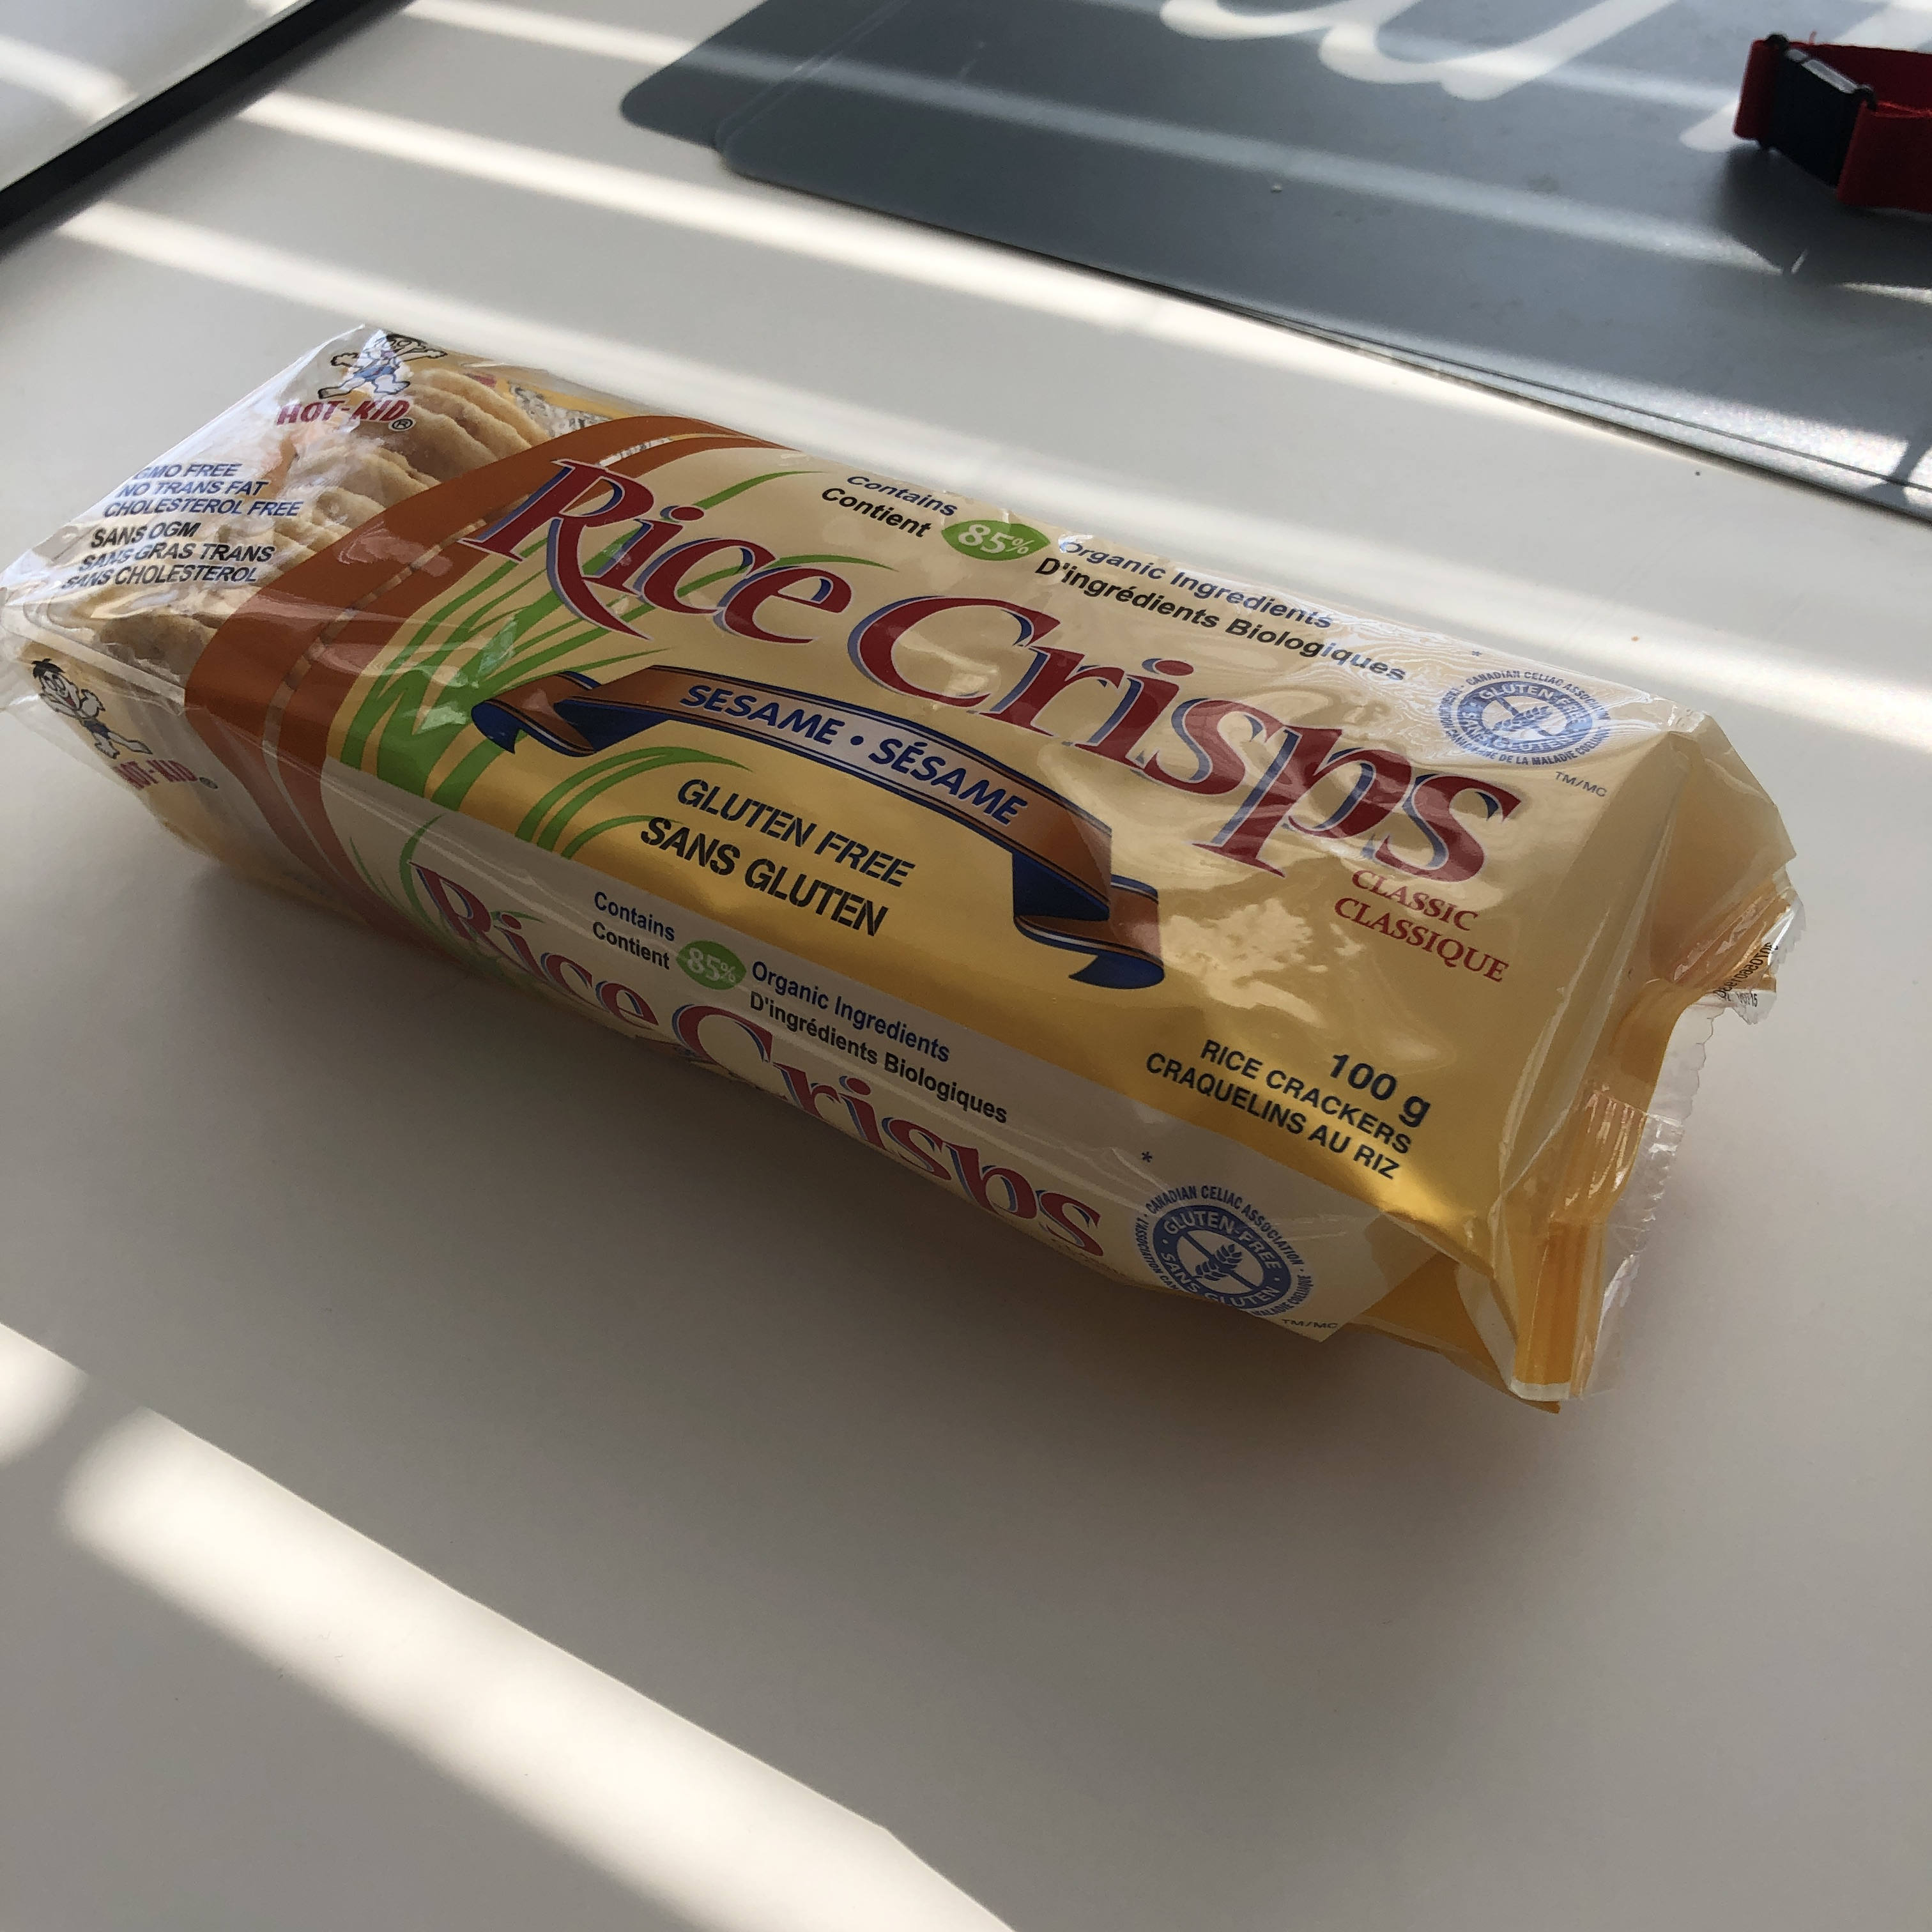hot_kid_rice_crisps_sesame: (382, 286, 1280, 1773)
